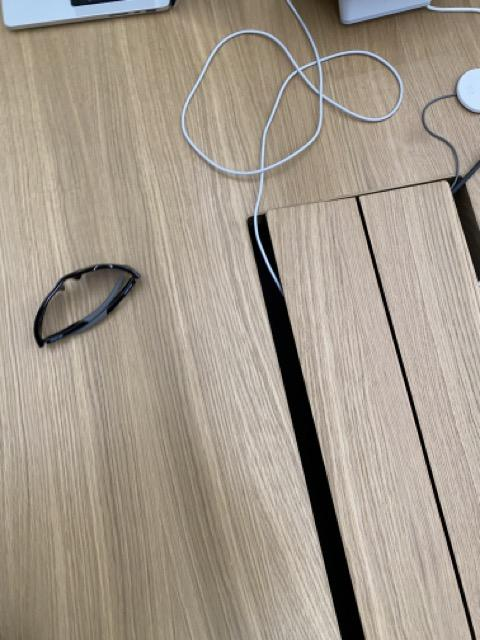Sunglasses: (34, 262, 142, 349)
